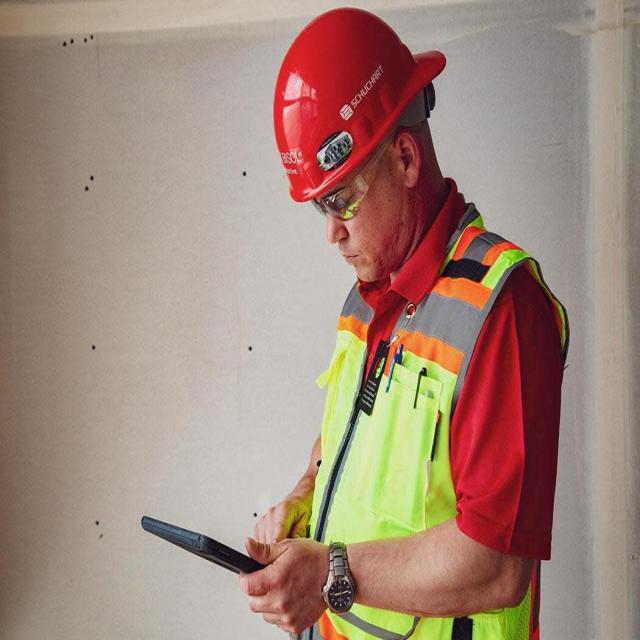goggles: (297, 171, 411, 228)
helmet: (266, 10, 442, 186)
vest: (314, 267, 550, 638)
